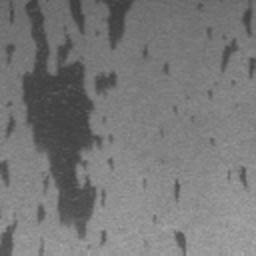Red iron sheet: (0, 0, 169, 256), (159, 0, 256, 137), (141, 214, 187, 255), (141, 156, 180, 204), (224, 164, 247, 187), (193, 1, 205, 12), (209, 134, 215, 146)
